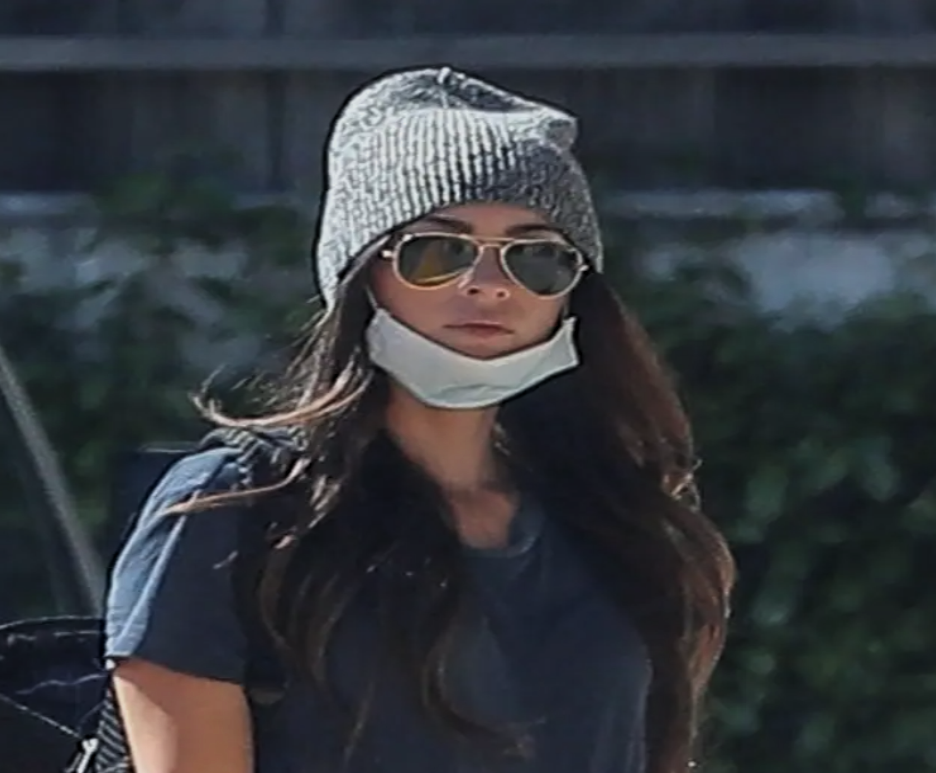mask_weared_incorrect: (316, 70, 601, 416)
